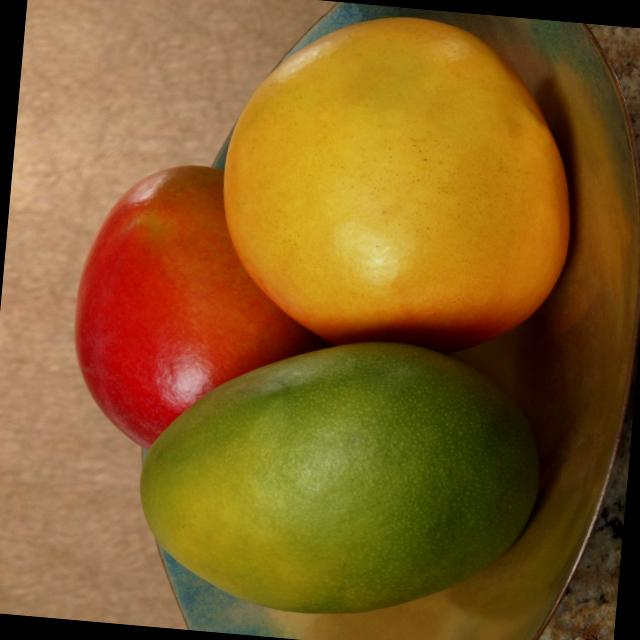mango: (123, 306, 569, 632), (212, 0, 588, 359), (64, 168, 343, 463)
